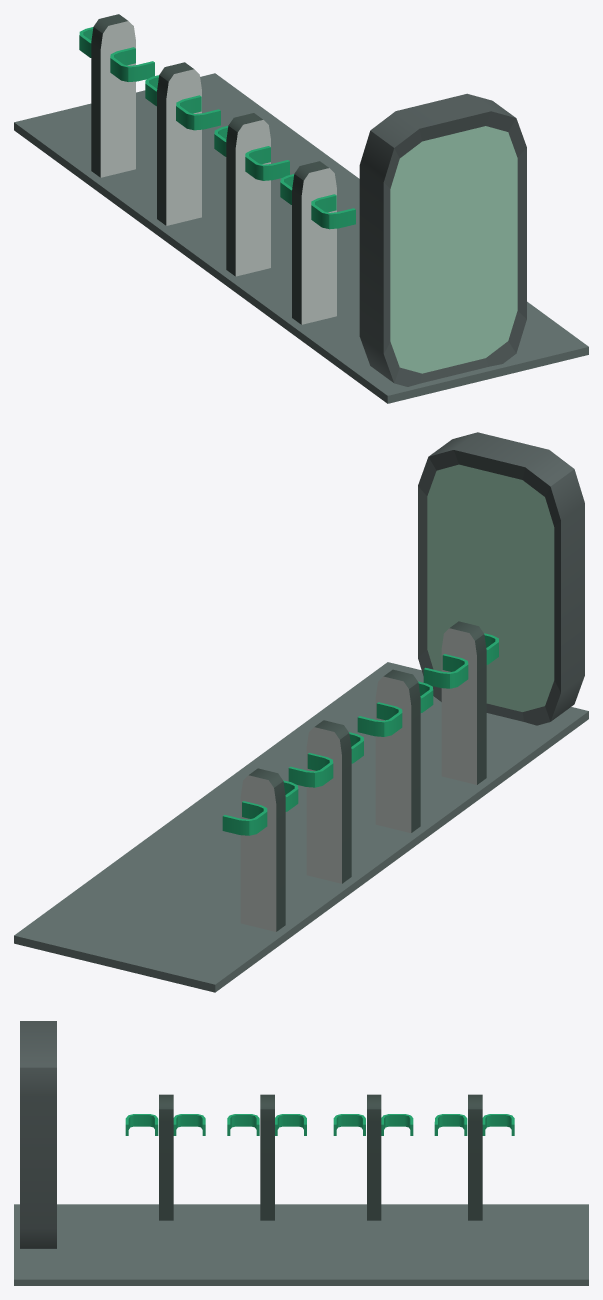
File: SM_Scooters_Station1.fbx
The picture shows the model from 3 angles, top to bottom: view 1: azimuth 30°, elevation 25°; view 2: azimuth 150°, elevation 25°; view 3: azimuth 270°, elevation 25°; orthographic projection. The views are drawn at different scales.
Visible parts, largest first — view 1: SM_Scooters_Station1; view 2: SM_Scooters_Station1; view 3: SM_Scooters_Station1.
Boxes of the visible parts, bbox=[...] form: SM_Scooters_Station1: bbox=[14, 14, 588, 403]; SM_Scooters_Station1: bbox=[14, 432, 588, 992]; SM_Scooters_Station1: bbox=[14, 1021, 588, 1285].
Size of the model in its own units: 140 by 175 by 450.
